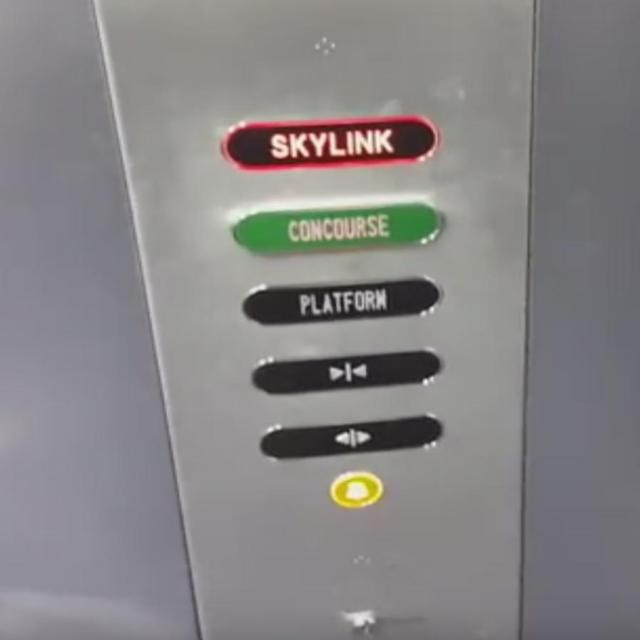alarm: (327, 470, 384, 510)
close: (251, 348, 443, 397)
open: (256, 414, 441, 462)
text: (227, 195, 444, 255), (219, 116, 442, 172), (236, 275, 442, 327)
